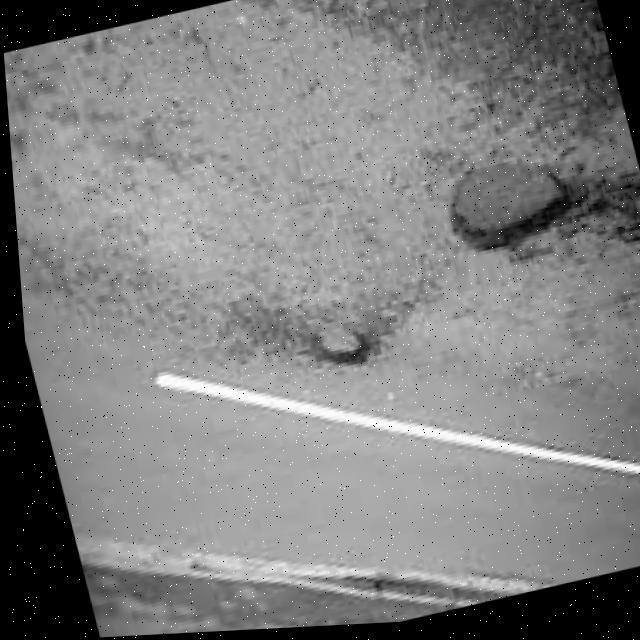pothole: (420, 113, 640, 290), (293, 308, 377, 389)
